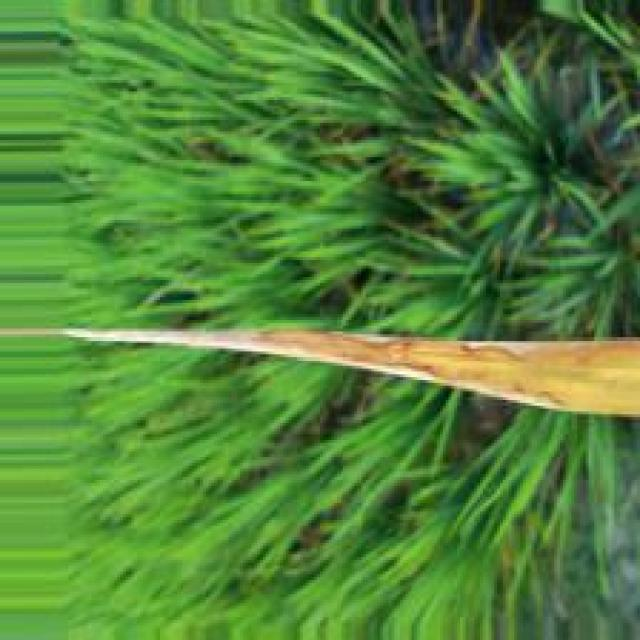Bacterial_Leaf_Blight: (84, 326, 640, 425)
